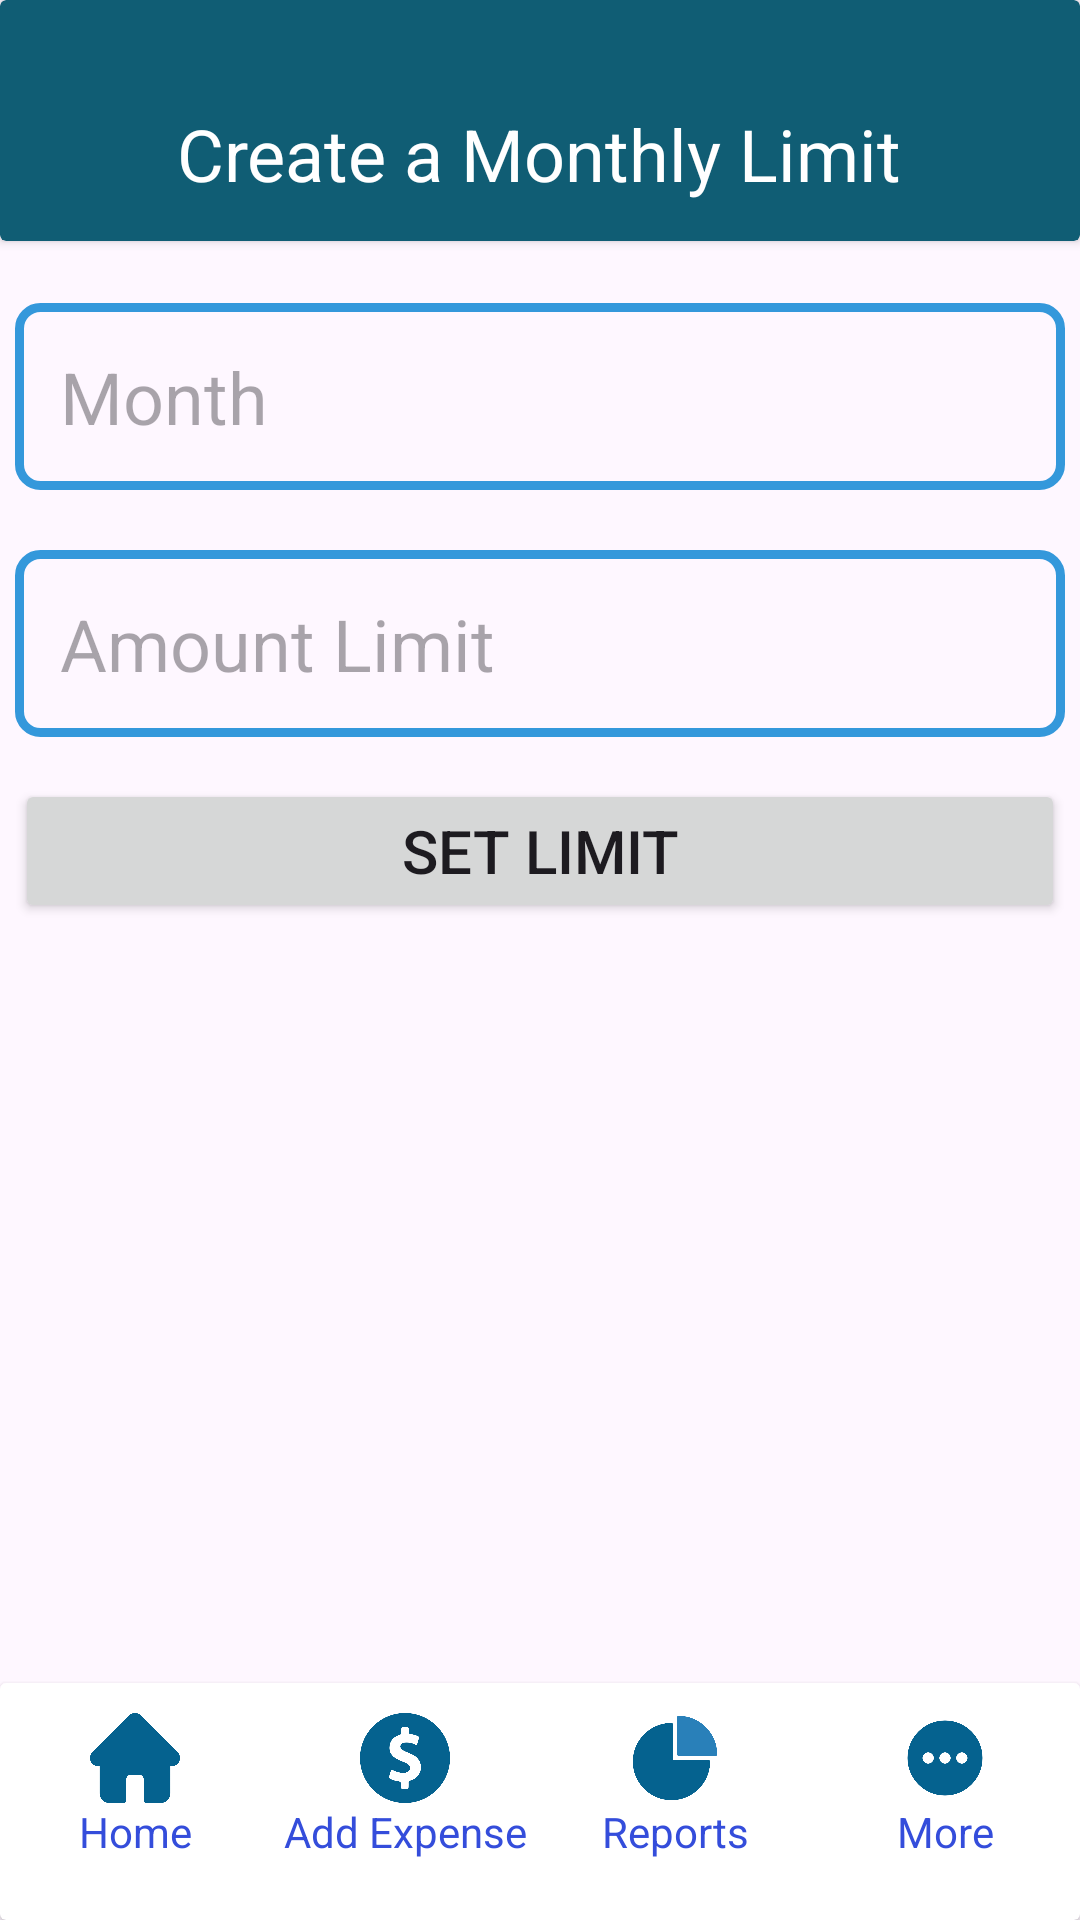

Screen size 1080px x 1920px. Icon name, then its box in pixels as detection(x1, y1, x2, y2):
coin: detection(360, 1713, 450, 1803)
piechartanalytics: detection(633, 1716, 717, 1800)
